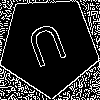U: (24, 21, 73, 78)
